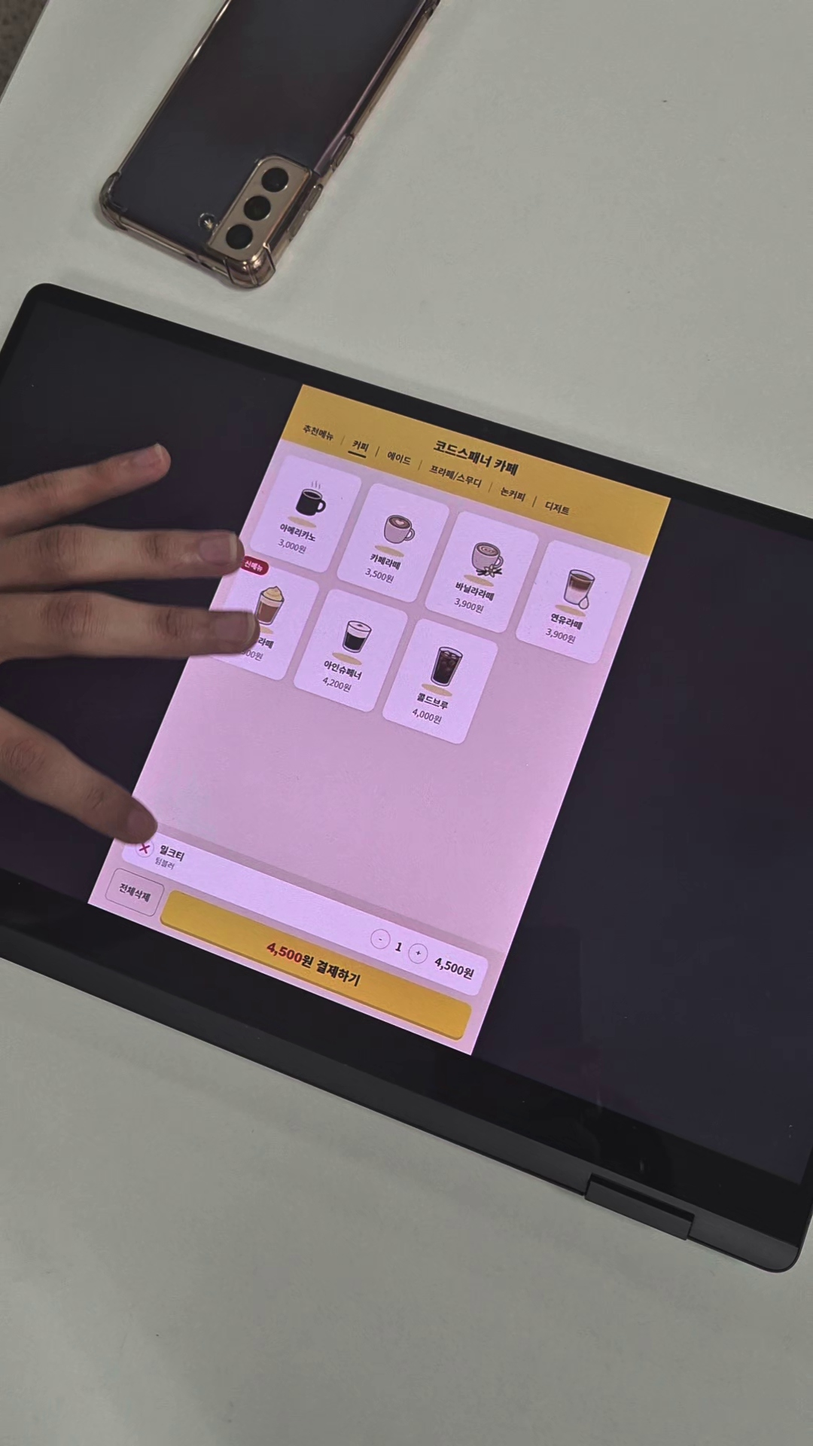action_button: (156, 888, 476, 1044), (101, 867, 170, 920)
cart_item: (114, 818, 494, 1004)
category_tab: (421, 459, 489, 492), (295, 420, 344, 451), (539, 496, 577, 524), (494, 480, 530, 507), (381, 446, 417, 470), (345, 435, 377, 460)
menu_back: (506, 534, 638, 674), (416, 506, 544, 643), (377, 615, 502, 750), (239, 447, 366, 578), (287, 585, 412, 717), (332, 478, 453, 610)
menu_name: (448, 576, 501, 607), (319, 654, 369, 686), (410, 685, 456, 716), (270, 521, 320, 547), (545, 608, 588, 635), (366, 551, 404, 574)
menu_price: (316, 672, 361, 698), (539, 624, 582, 650), (408, 704, 448, 730), (359, 564, 400, 589), (449, 593, 490, 618), (274, 534, 311, 558)
